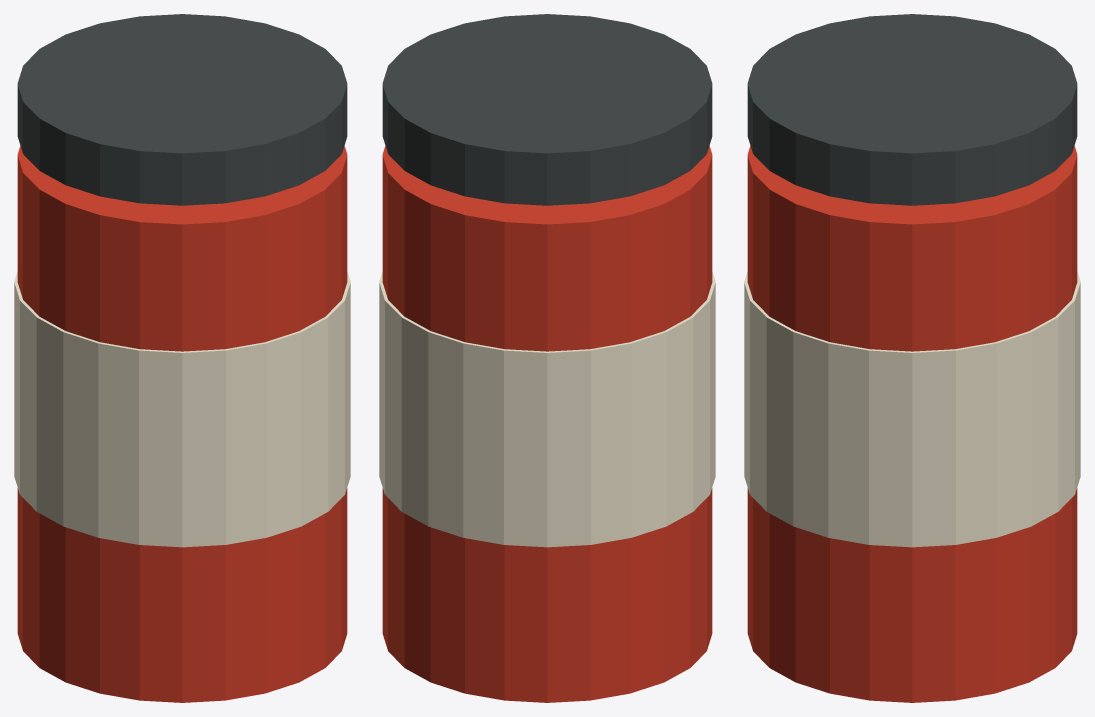
The model's file is soda.glb.
3 views of the same model, side by side, from view 1: azimuth 30°, elevation 25°; view 2: azimuth 150°, elevation 25°; view 3: azimuth 270°, elevation 25° (orthographic).
Parts seen in each view (by area): view 1: drink_body, drink_label, drink_cap; view 2: drink_body, drink_label, drink_cap; view 3: drink_body, drink_label, drink_cap.
Part boxes in pixels (x1,y1,x2,y2): drink_body: (17,146,347,702); drink_label: (14,271,350,547); drink_cap: (17,14,347,205); drink_body: (382,146,712,702); drink_label: (379,271,715,547); drink_cap: (382,14,712,205); drink_body: (747,146,1077,702); drink_label: (744,271,1080,547); drink_cap: (747,14,1077,205).
Size of the model in its own units: 0.204 by 0.3675 by 0.204.
